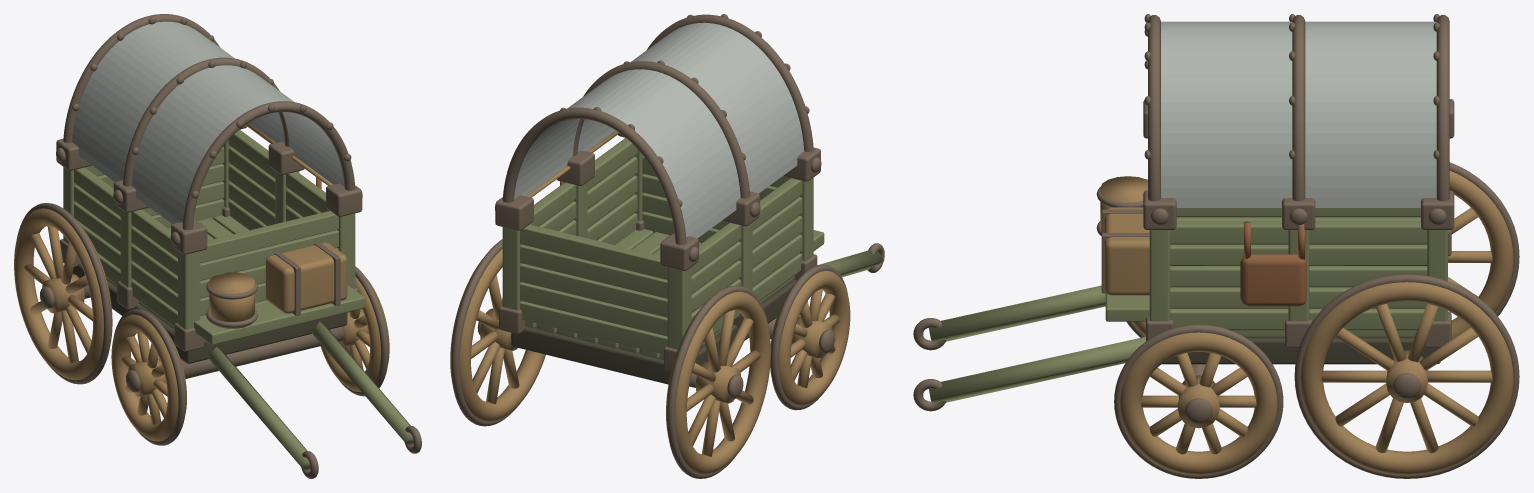
The picture shows the model from 3 angles, left to right: view 1: azimuth 30°, elevation 25°; view 2: azimuth 150°, elevation 25°; view 3: azimuth 270°, elevation 25°; orthographic projection. The views are drawn at different scales.
Parts seen in each view (by area): view 1: continuous curved canvas canopy, thick wooden wheel rim.002, travel trunk, thick wooden wheel rim, arched iron hoop, front shelf, end board.004, under chassis, long draw shaft.001, long draw shaft, end board.003, arched iron hoop.001 (+40 smaller); view 2: continuous curved canvas canopy, thick wooden wheel rim.002, under chassis, thick wooden wheel rim, thick wooden wheel rim.003, arched iron hoop.002, end board.009, end board.006, end board.007, end board.008, end board.005, arched iron hoop.001 (+39 smaller); view 3: continuous curved canvas canopy, thick wooden wheel rim.003, thick wooden wheel rim.001, side plank.009, side plank.008, long draw shaft.001, iron tire.003, long draw shaft, side plank.005, travel trunk, thick wooden wheel rim.002, leather bag (+32 smaller).
Part boxes in pixels (x1,y1,x2,y2): continuous curved canvas canopy: (72, 21, 344, 223); thick wooden wheel rim.002: (14, 208, 112, 380); travel trunk: (265, 242, 347, 313); thick wooden wheel rim: (111, 314, 186, 441); arched iron hoop: (182, 101, 355, 230); front shelf: (194, 284, 365, 344); end board.004: (200, 211, 338, 262); under chassis: (72, 263, 347, 363); long draw shaft.001: (311, 321, 413, 445); long draw shaft: (208, 347, 310, 470); end board.003: (200, 230, 338, 280); arched iron hoop.001: (123, 57, 289, 186); continuous curved canvas canopy: (514, 22, 804, 238); thick wooden wheel rim.002: (666, 291, 770, 474); under chassis: (511, 279, 796, 384); thick wooden wheel rim: (770, 270, 850, 405); thick wooden wheel rim.003: (450, 249, 545, 421); arched iron hoop.002: (502, 107, 686, 244); end board.009: (520, 224, 667, 279); end board.006: (520, 282, 667, 336); end board.007: (520, 263, 667, 317); end board.008: (520, 244, 667, 298); end board.005: (520, 301, 667, 354); arched iron hoop.001: (573, 61, 750, 198); continuous curved canvas canopy: (1161, 21, 1436, 207); thick wooden wheel rim.003: (1300, 282, 1513, 475); thick wooden wheel rim.001: (1120, 332, 1277, 475); side plank.009: (1170, 221, 1427, 244); side plank.008: (1170, 244, 1427, 265); long draw shaft.001: (929, 336, 1145, 403); iron tire.003: (1294, 274, 1519, 478); long draw shaft: (929, 285, 1105, 342); side plank.005: (1170, 308, 1424, 330); travel trunk: (1104, 207, 1149, 295); thick wooden wheel rim.002: (1449, 171, 1513, 339); leather bag: (1240, 254, 1306, 306).
Size of the model in its own units: 0.5636 by 0.7205 by 1.
